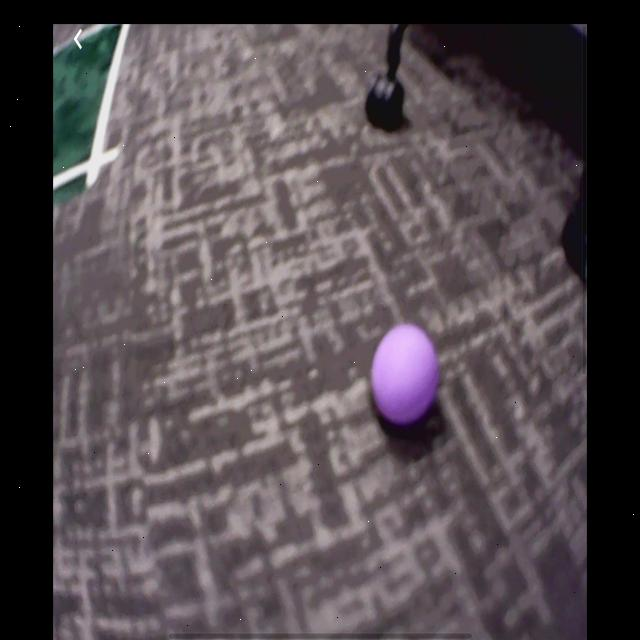ball: (370, 322, 442, 428)
